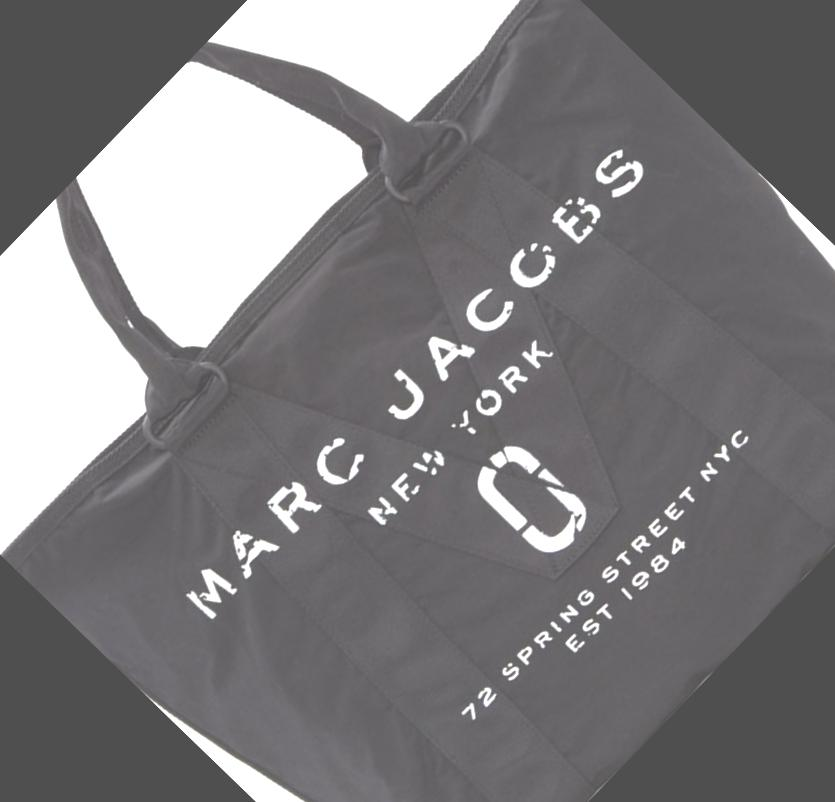MARC-JACOBS: (179, 138, 650, 623)
